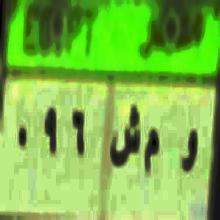0: (16, 117, 30, 152)
6: (70, 101, 90, 163)
9: (42, 102, 58, 164)
meem: (144, 123, 160, 183)
sheen: (110, 106, 140, 181)
waw: (180, 122, 198, 188)
